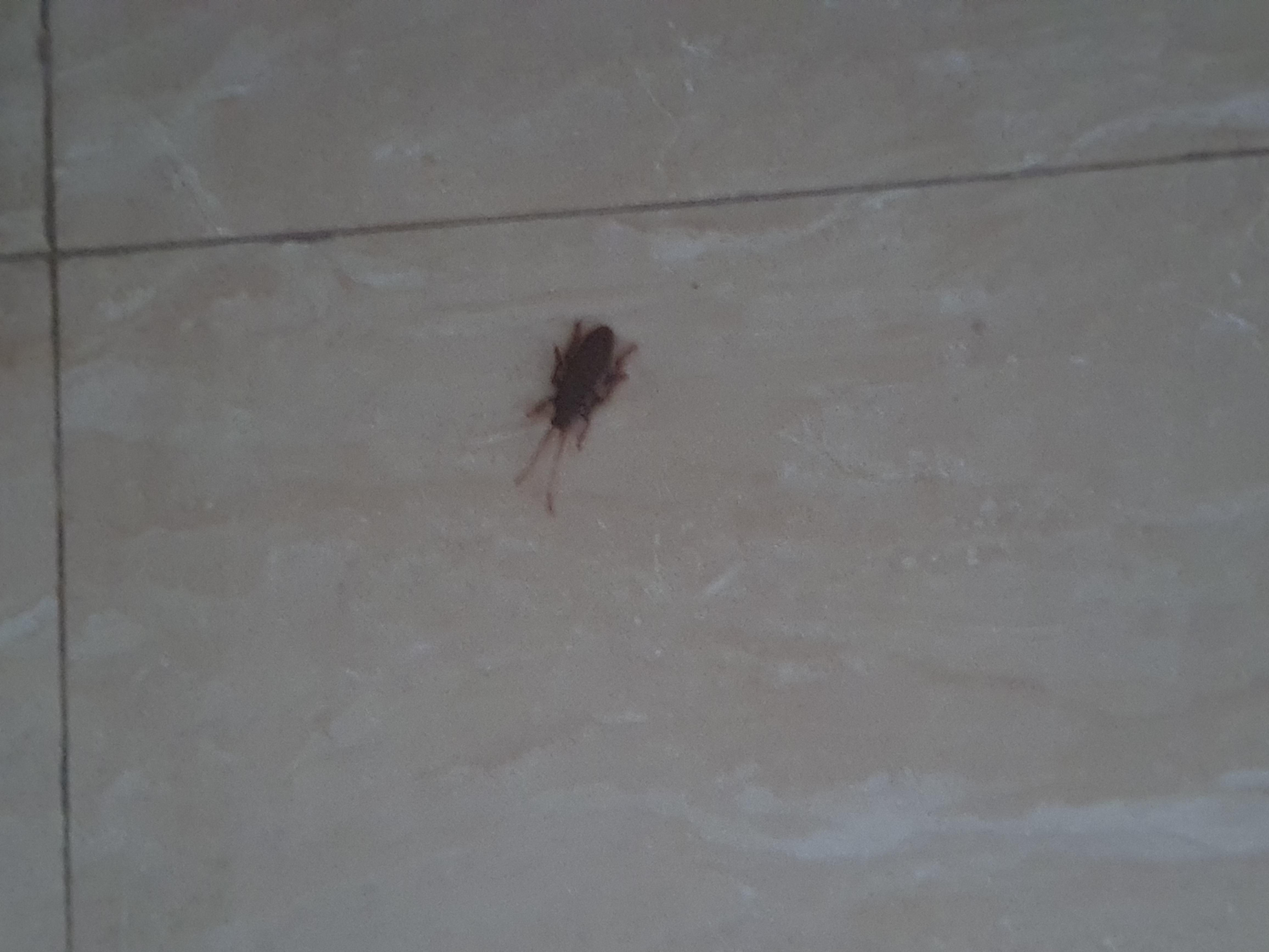cockroach: (565, 365, 864, 482)
